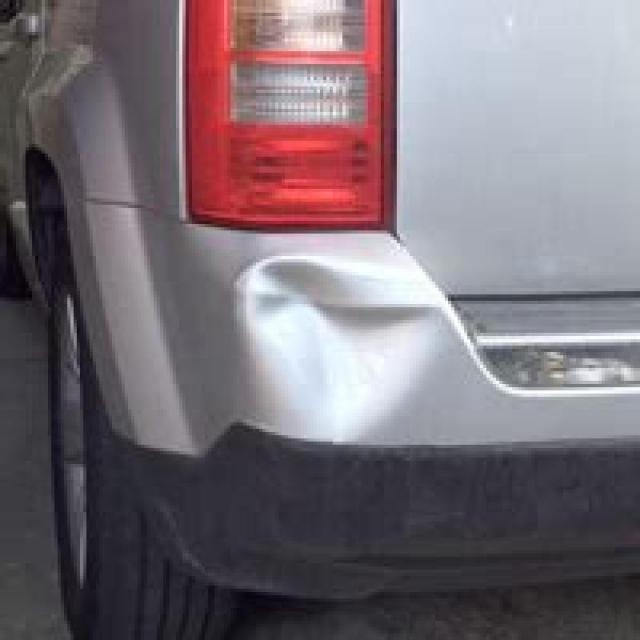dent: (234, 258, 431, 441)
